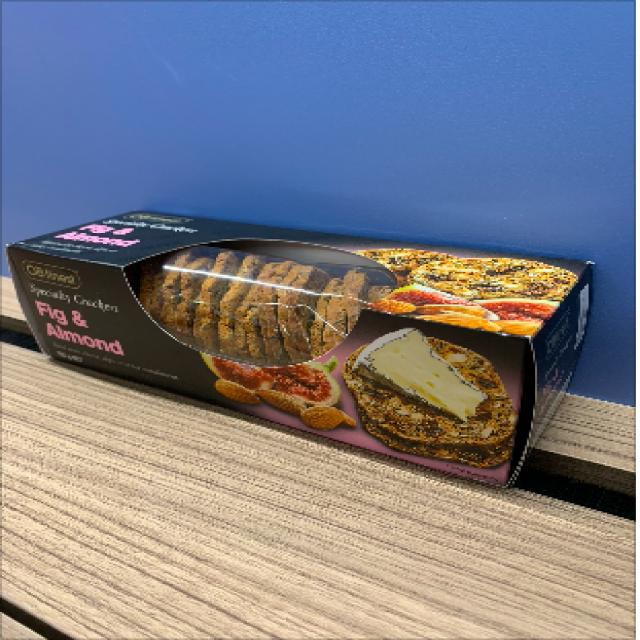object_name: (23, 225, 590, 450)
